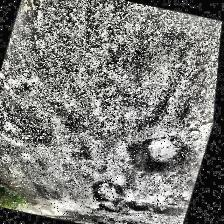pothole: (142, 131, 192, 171), (94, 179, 128, 205), (155, 199, 179, 219), (134, 200, 154, 214), (100, 202, 122, 214)
